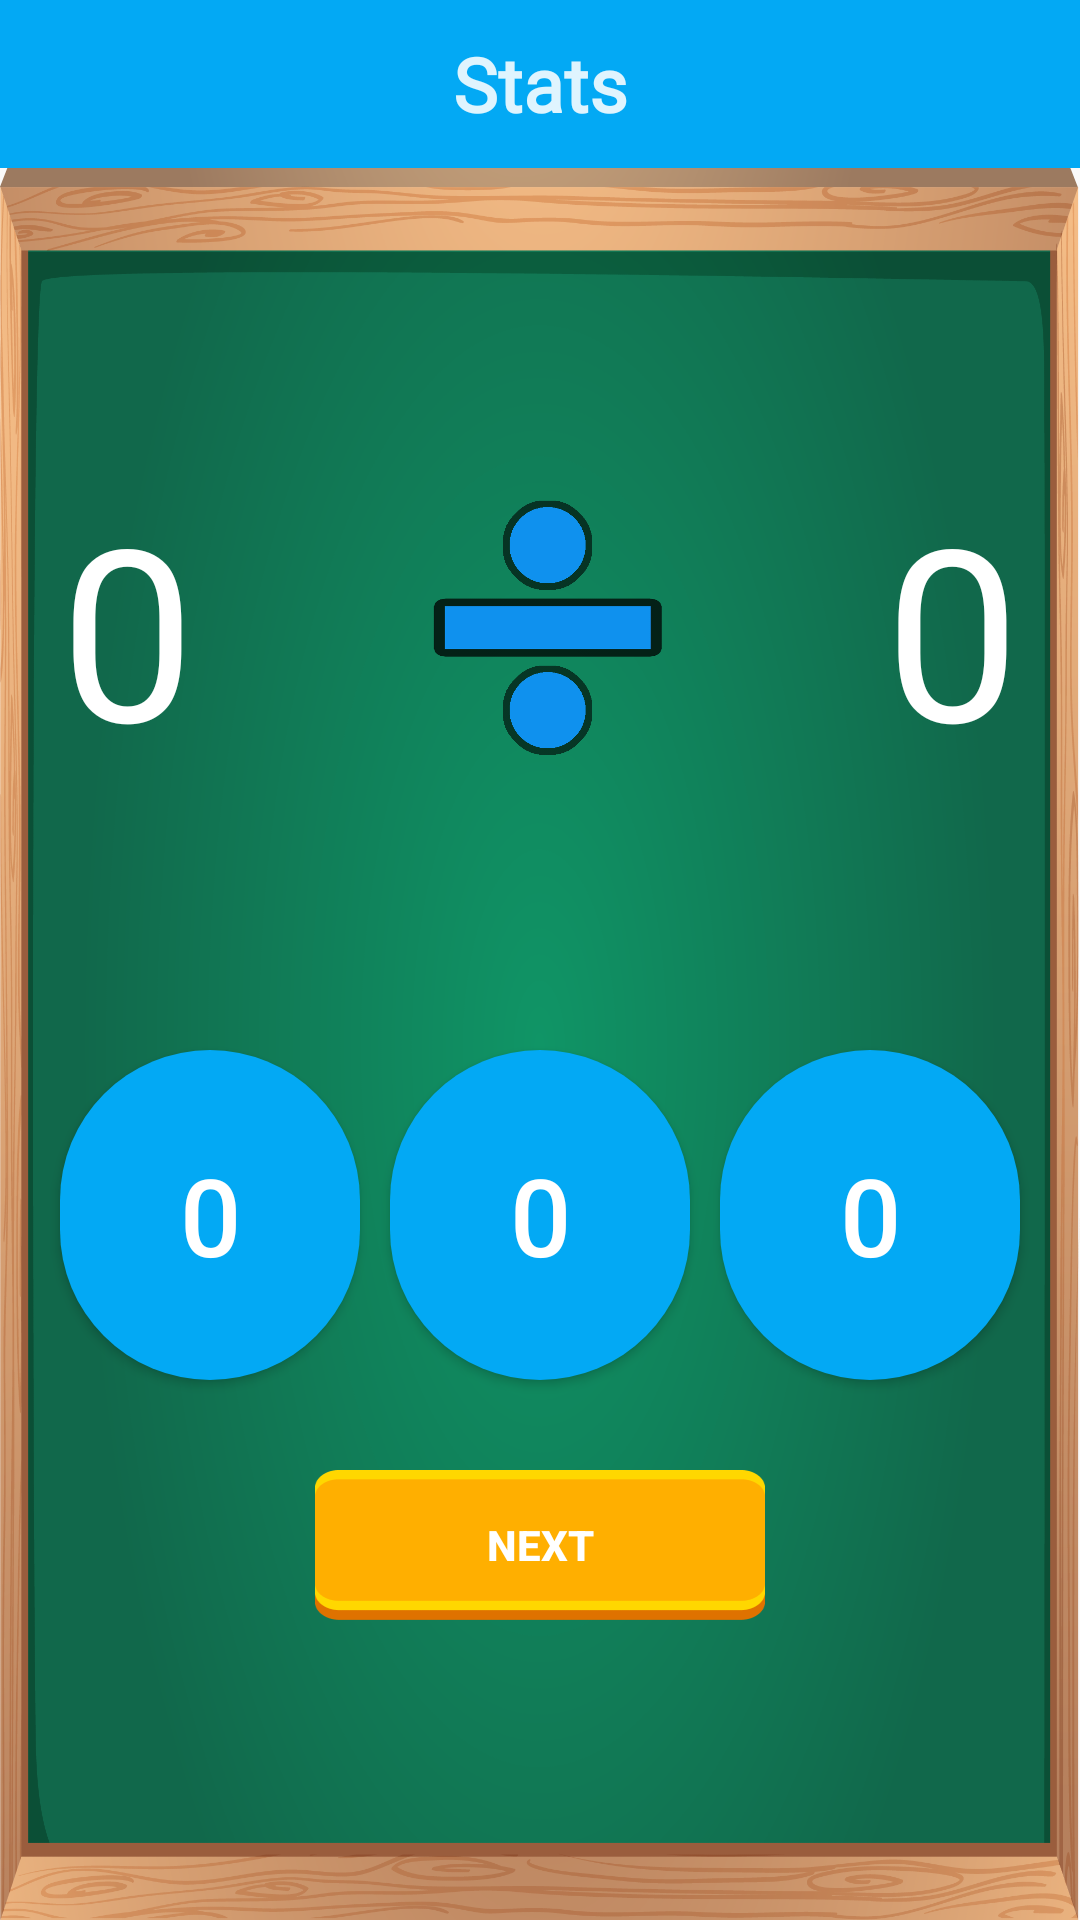

Named icons in this screenshot (1080x1920) and their bounding boxes, (x1, y1, x2, y2):
division: (434, 501, 662, 755)
